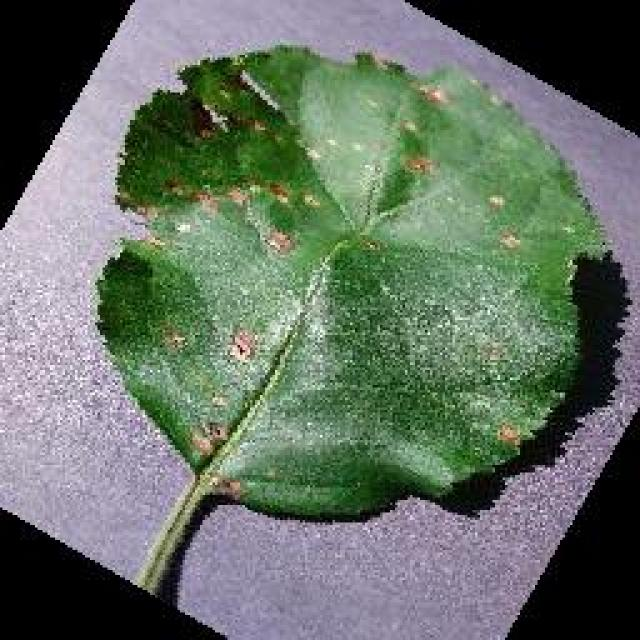Black_rot: (92, 40, 608, 522)
